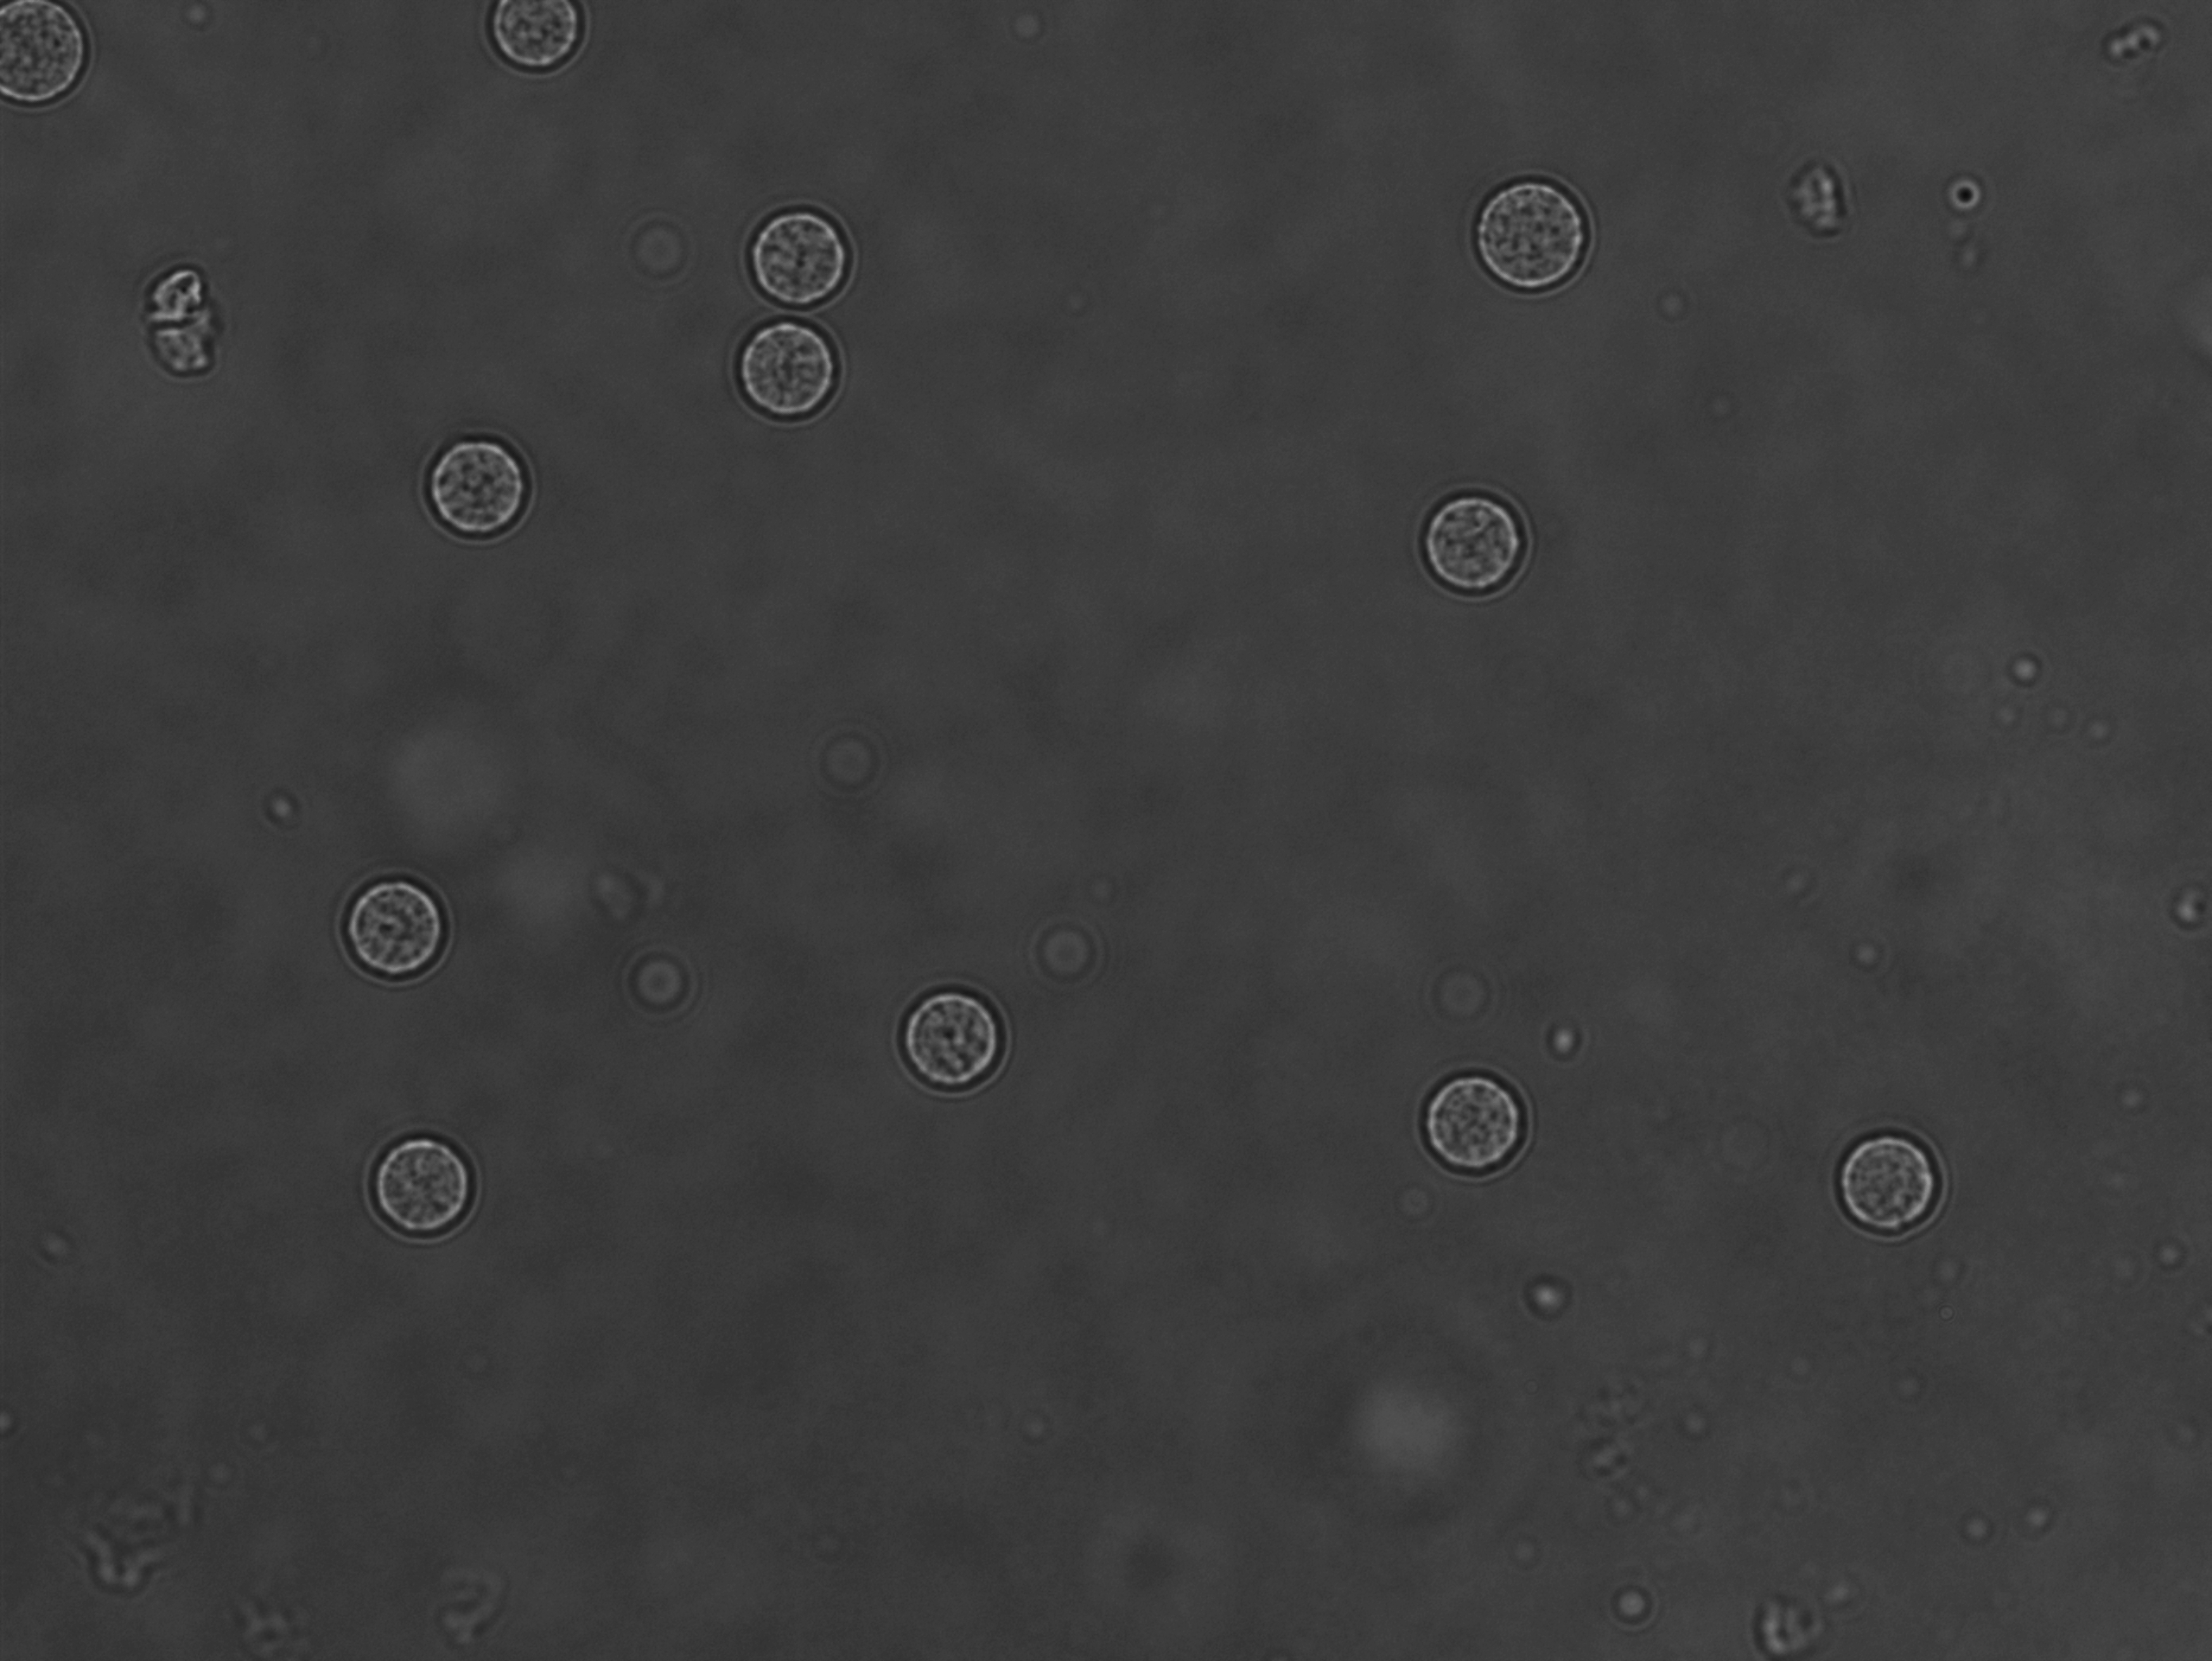depth:0: (333, 1099, 518, 1281), (1399, 1021, 1553, 1220), (870, 951, 1041, 1117), (1816, 1101, 1964, 1261), (712, 312, 886, 445), (323, 841, 462, 998), (1462, 167, 1607, 309), (731, 183, 883, 314), (1392, 482, 1540, 614), (419, 419, 550, 558)
